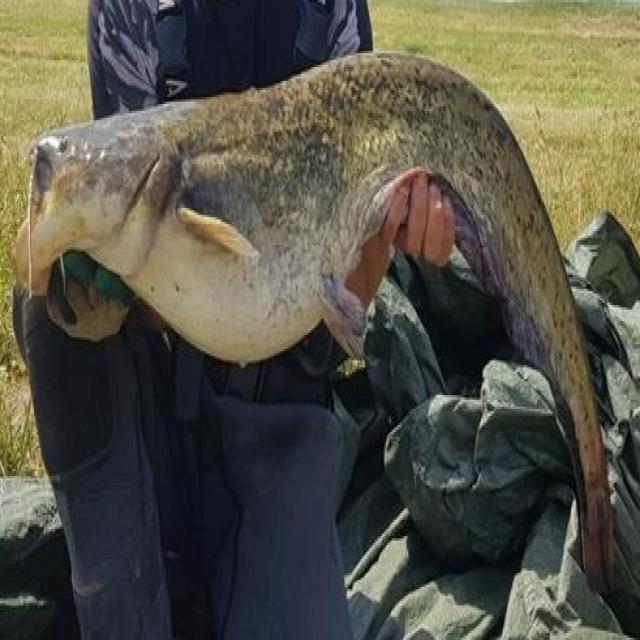Catfish: (21, 61, 620, 594)
